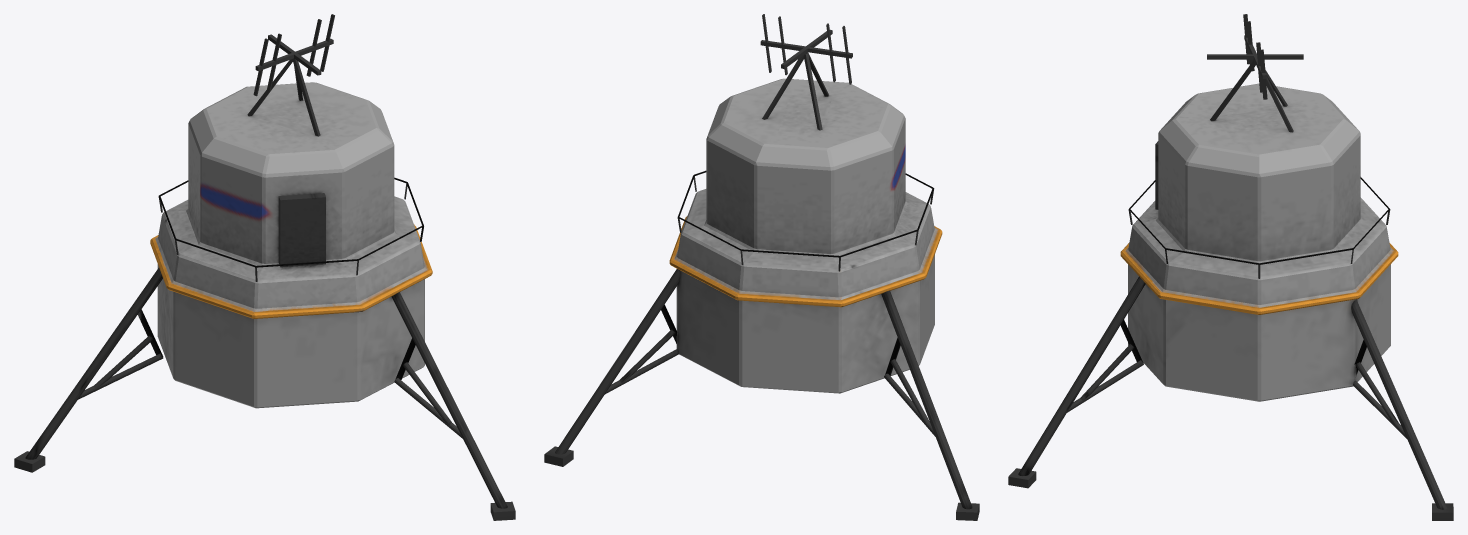
Rendered from Lander.glb.
3 renders of one model, left to right at view 1: azimuth 30°, elevation 25°; view 2: azimuth 150°, elevation 25°; view 3: azimuth 270°, elevation 25°, orthographic. The views are drawn at different scales.
Visible parts, largest first — view 1: body, Detail, Door; view 2: body, Detail; view 3: body, Detail.
Boxes of the visible parts, x1,y1,x2,y2 form: body: [150, 82, 432, 408]; Detail: [14, 14, 515, 520]; Door: [278, 193, 325, 267]; body: [669, 78, 942, 393]; Detail: [544, 14, 979, 520]; body: [1120, 83, 1398, 401]; Detail: [1008, 14, 1453, 520].
Size of the model in its own units: 5.94 by 6.02 by 5.92.
Materials: 2 (2 with a texture image).
